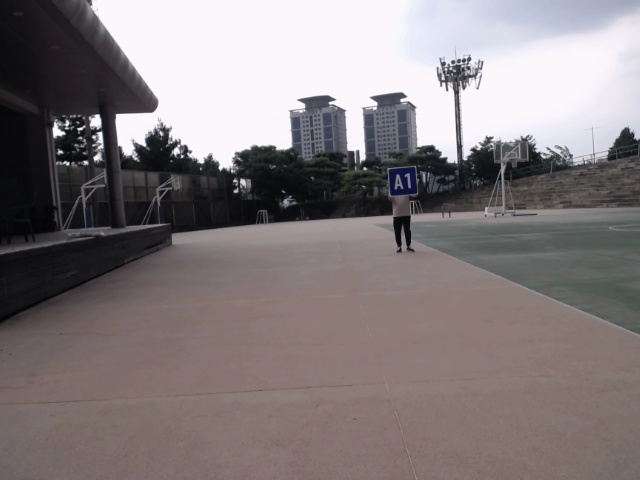delivery_a1: (388, 166, 418, 195)
